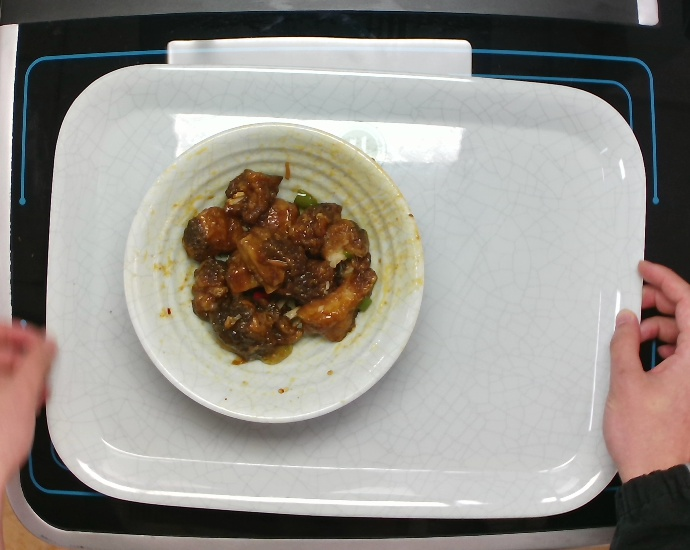JYsf-Xiao_Tang_Wan: (117, 121, 431, 427)
